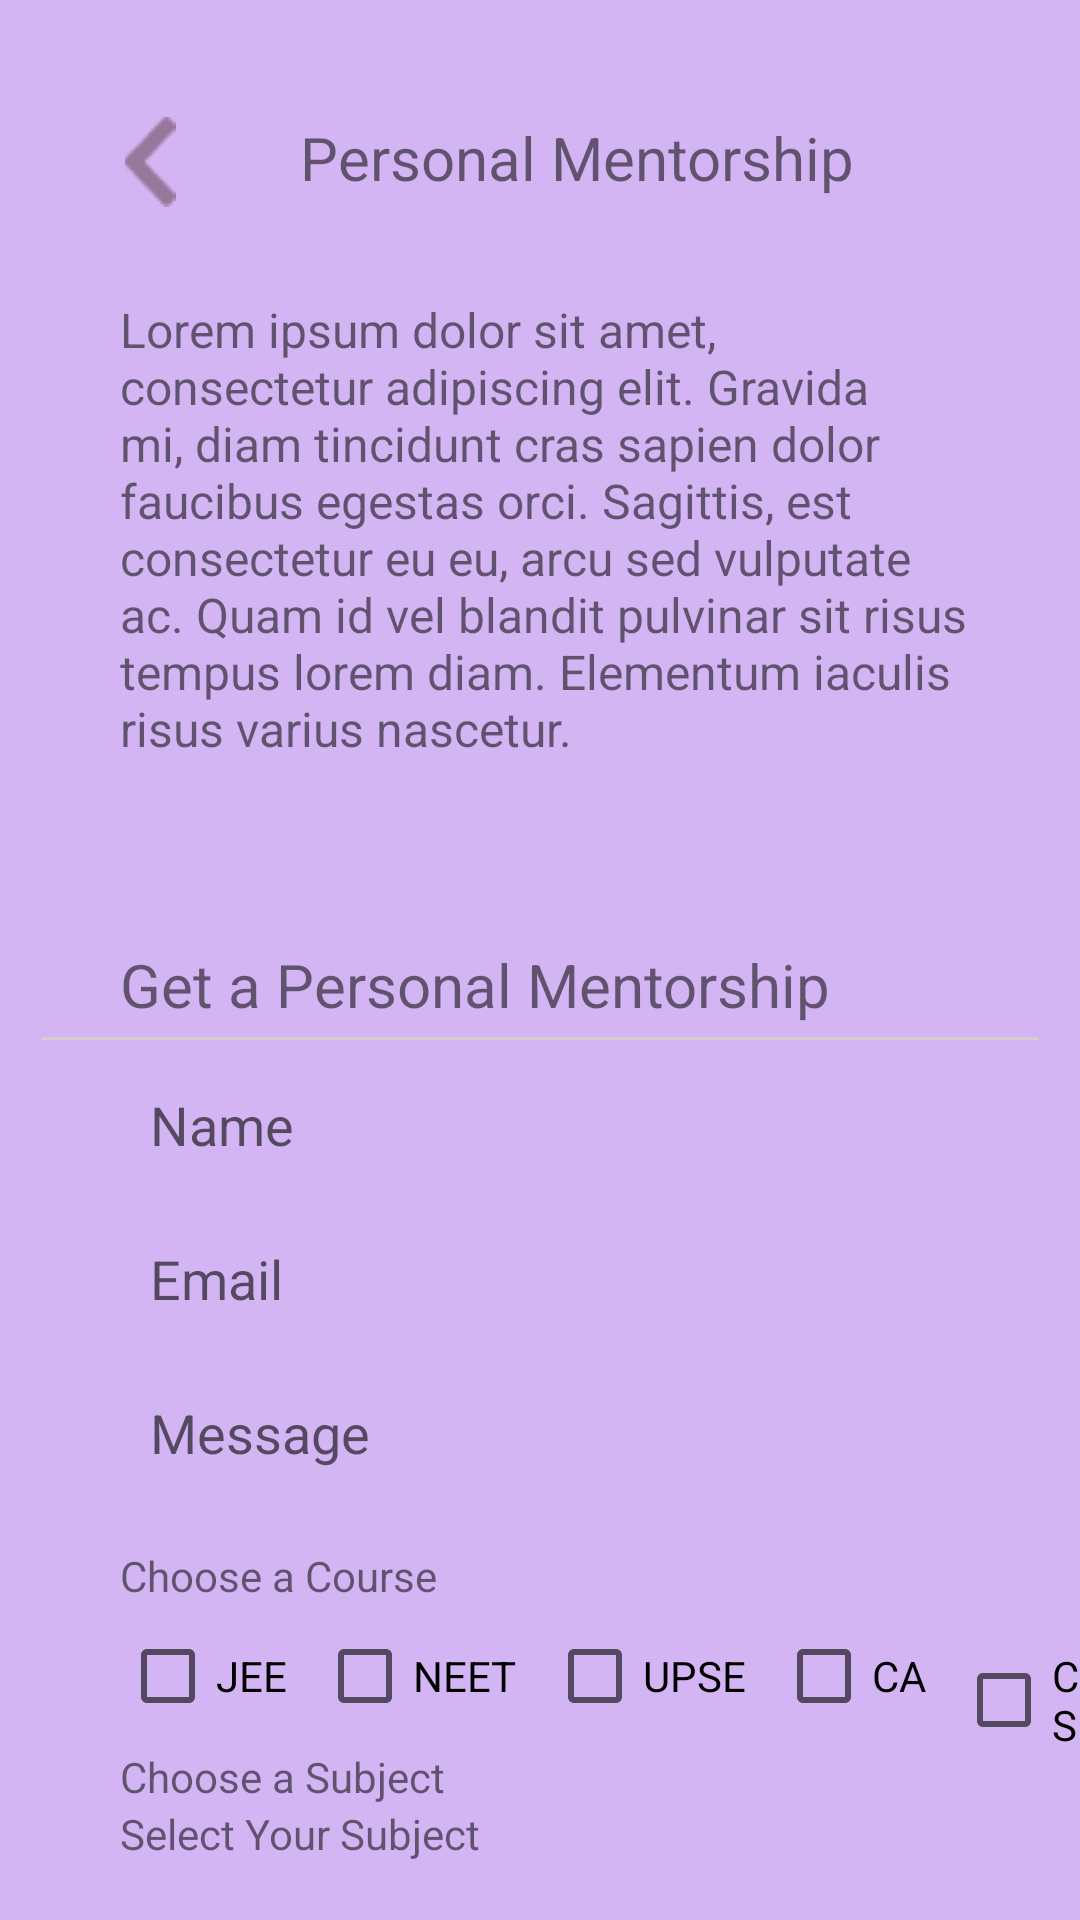

Point at icon controls on the screen. Image size 1080w x 1920h, points as (x=x, y=y).
arrow: (x=150, y=162)
